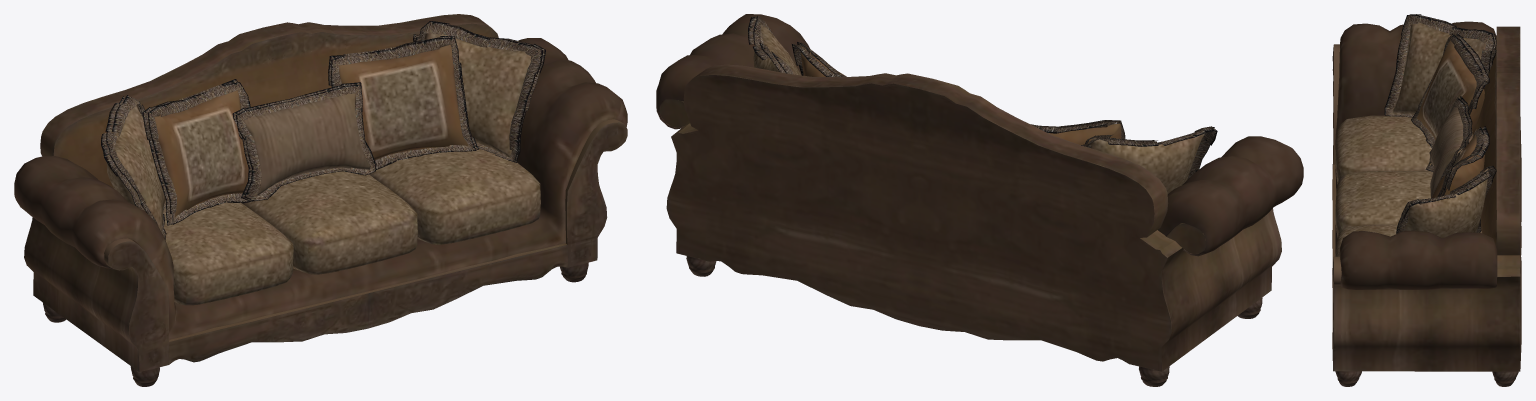
File: sofa_03.glb
3 views of the same model, side by side, from view 1: azimuth 30°, elevation 25°; view 2: azimuth 150°, elevation 25°; view 3: azimuth 270°, elevation 25° (orthographic). The views are drawn at different scales.
Visible parts, largest first — view 1: sofa_03; view 2: sofa_03; view 3: sofa_03.
Part boxes in pixels (bbox=[...]): sofa_03: bbox=[14, 14, 627, 386]; sofa_03: bbox=[656, 14, 1303, 386]; sofa_03: bbox=[1332, 14, 1521, 386].
Bounding box in the file's own units: 2.73 × 1.12 × 0.9251.
2 materials, 2 textured.
